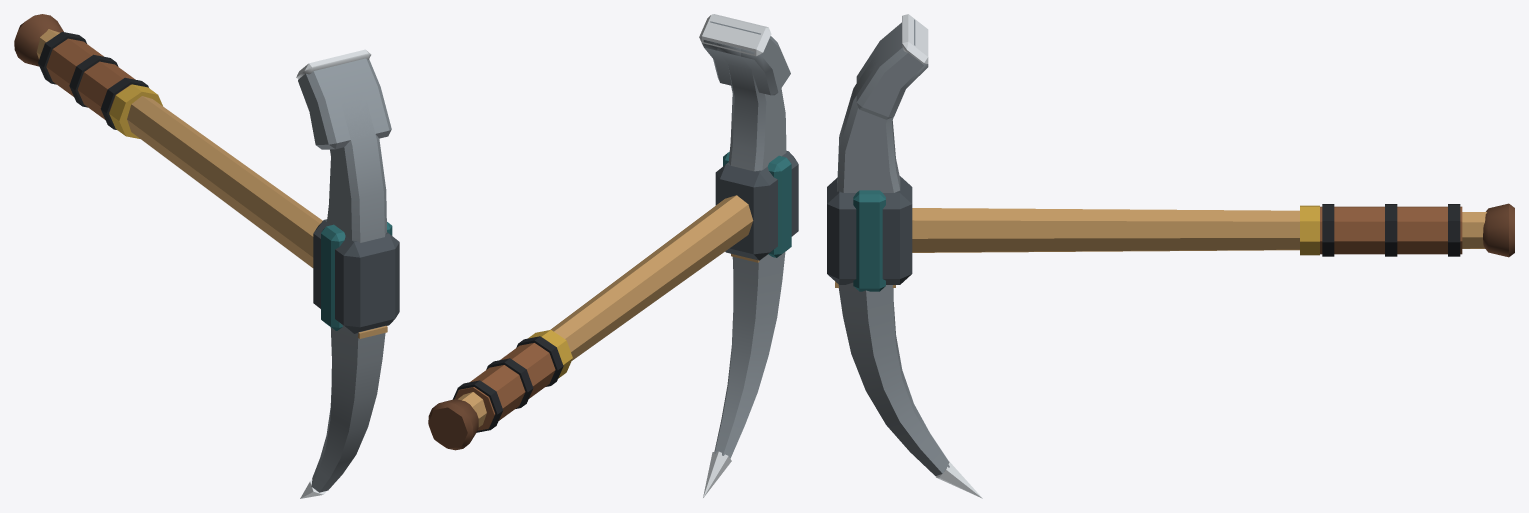
The model's file is Weapon_Pickaxe.fbx.
3 renders of one model, left to right at view 1: azimuth 30°, elevation 25°; view 2: azimuth 150°, elevation 25°; view 3: azimuth 270°, elevation 25°, orthographic. The views are drawn at different scales.
Visible parts, largest first — view 1: Haft; view 2: Haft; view 3: Haft.
Part boxes in pixels (left/top/right/bottom): Haft: left=14, top=14, right=399, bottom=498; Haft: left=428, top=14, right=798, bottom=497; Haft: left=827, top=14, right=1514, bottom=498.
Bounding box in the file's own units: 0.38 × 2.56 × 3.39.
